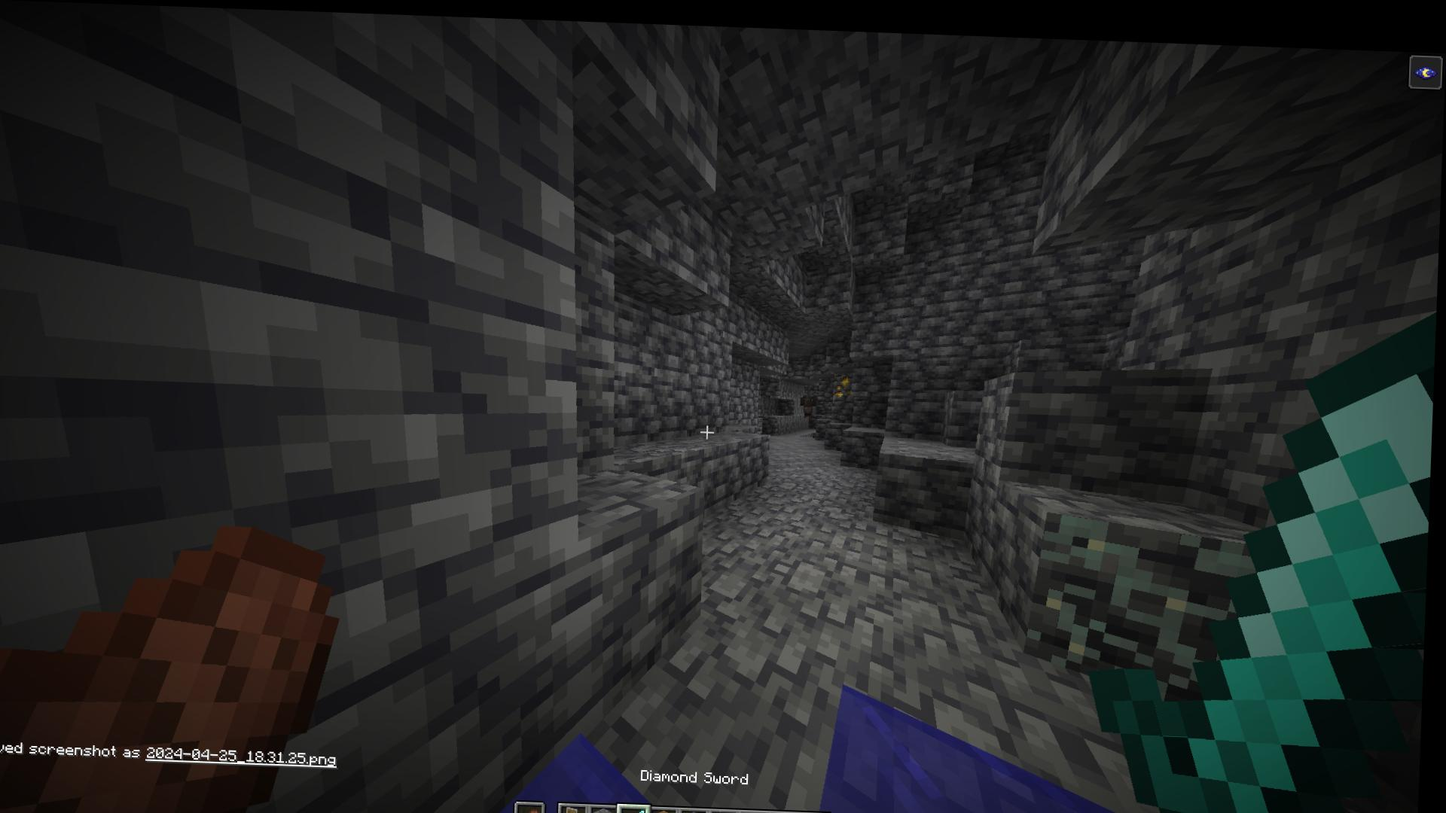gold ore: (836, 366, 855, 395)
